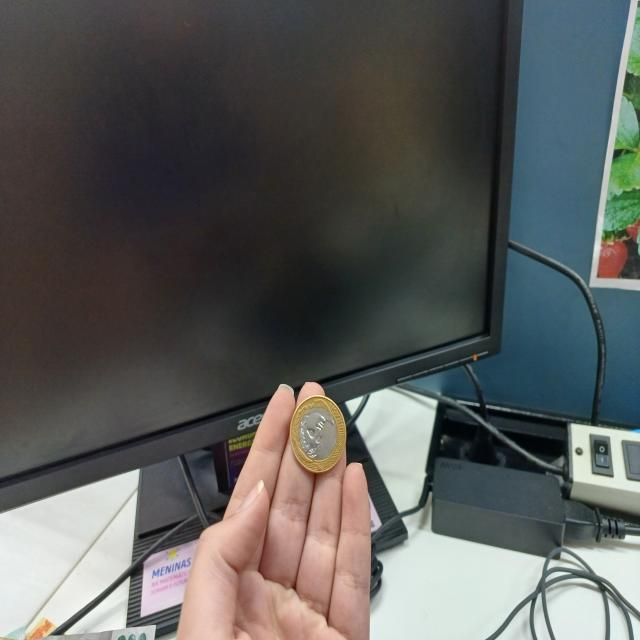1 real: (288, 391, 348, 477)
